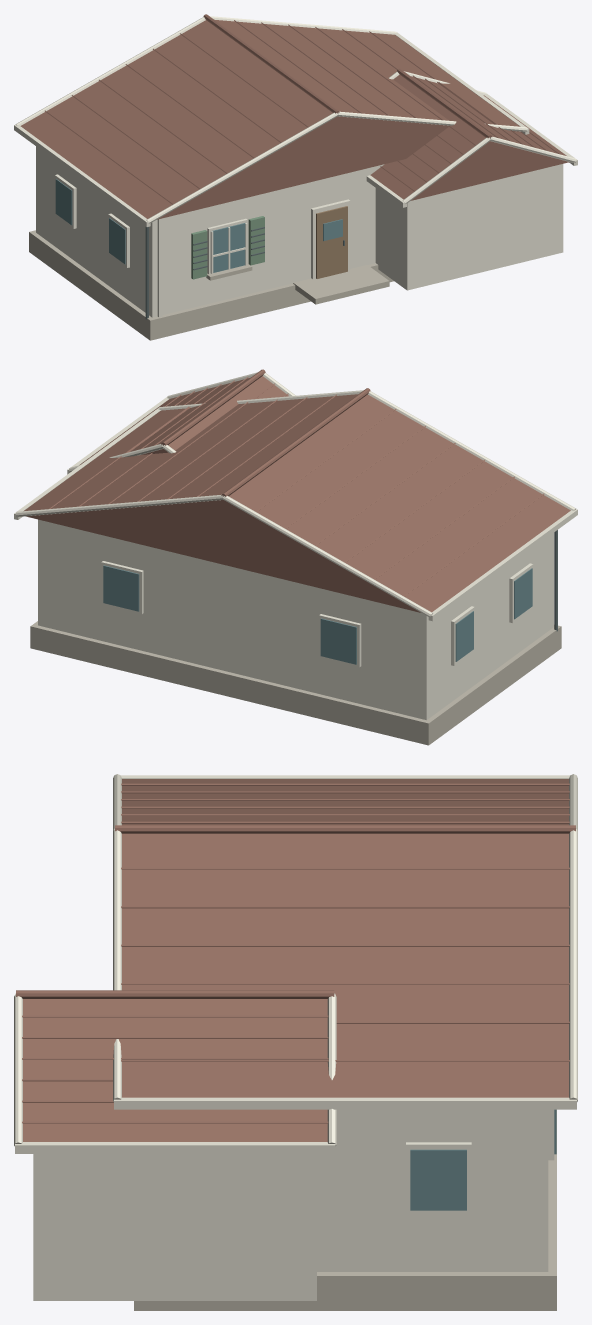
3 views of the same model, one above another, from view 1: azimuth 30°, elevation 25°; view 2: azimuth 150°, elevation 25°; view 3: azimuth 270°, elevation 25° (orthographic). The views are drawn at different scales.
Size of the model in its own units: 13.62 by 6.12 by 9.46.
